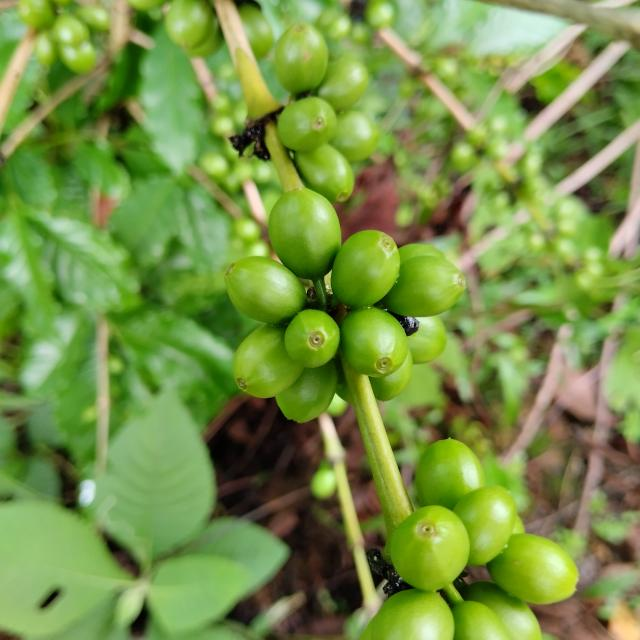green: (390, 506, 471, 592), (269, 188, 341, 283), (488, 535, 580, 605), (224, 256, 307, 325), (331, 230, 401, 308), (381, 255, 466, 317), (233, 324, 304, 398), (454, 487, 518, 567), (416, 439, 486, 511), (340, 307, 409, 378), (361, 590, 455, 640), (462, 582, 542, 640), (276, 360, 338, 423), (275, 22, 329, 94), (294, 143, 355, 202), (277, 96, 337, 152), (284, 309, 340, 368), (165, 0, 222, 56), (318, 56, 369, 110), (330, 110, 380, 162), (165, 0, 214, 49), (452, 602, 511, 640), (370, 350, 413, 402), (238, 3, 273, 58), (408, 316, 447, 364), (399, 243, 446, 263)
